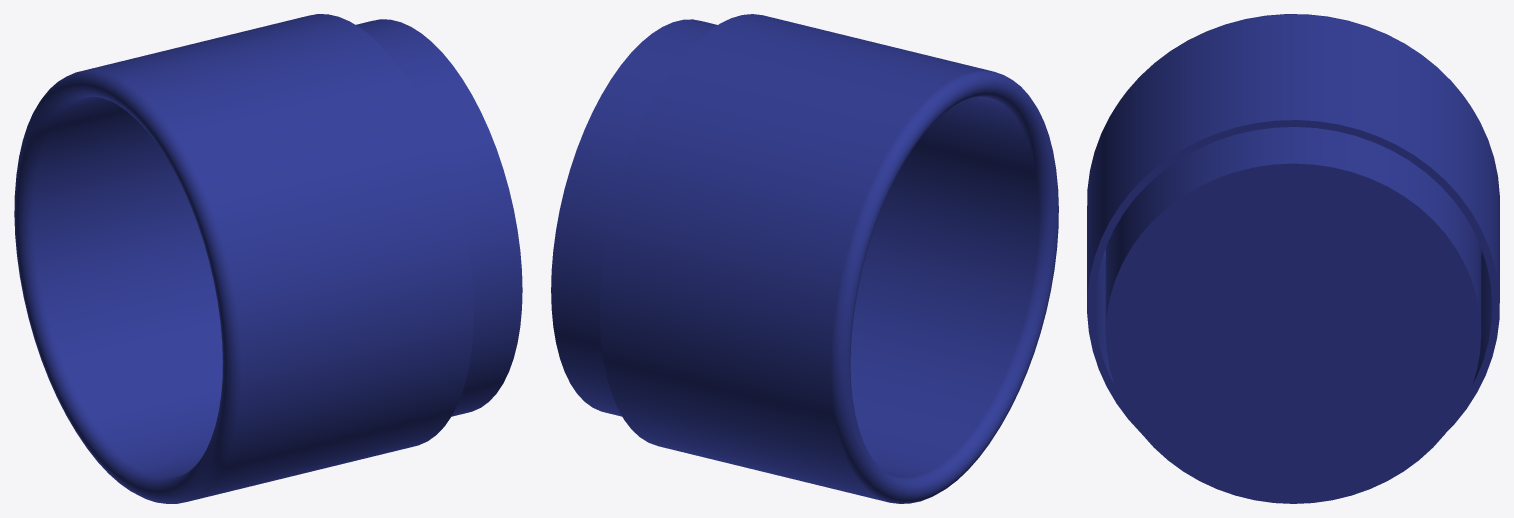
File: diaphragm_seal_visual.obj
3 views of the same model, side by side, from view 1: azimuth 30°, elevation 25°; view 2: azimuth 150°, elevation 25°; view 3: azimuth 270°, elevation 25° (orthographic). The views are drawn at different scales.
Visible parts, largest first — view 1: Diaphragm Seal; view 2: Diaphragm Seal; view 3: Diaphragm Seal.
Part boxes in pixels (<box>): Diaphragm Seal: <box>14,14,522,503</box>; Diaphragm Seal: <box>551,14,1058,503</box>; Diaphragm Seal: <box>1087,14,1499,503</box>.
Size of the model in its own units: 10.26 by 13.08 by 13.08.
